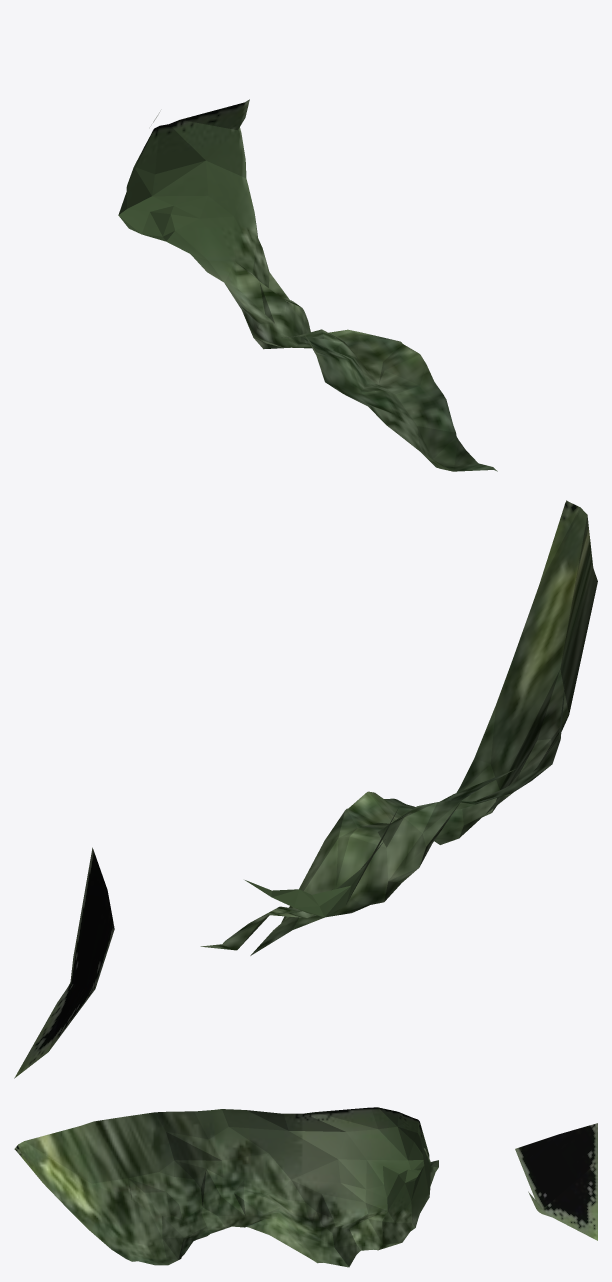
3 views of the same model, one above another, from view 1: azimuth 30°, elevation 25°; view 2: azimuth 150°, elevation 25°; view 3: azimuth 270°, elevation 25° (orthographic). The views are drawn at different scales.
Size of the model in its own units: 1.97 by 2.61 by 11.51.
Materials: 1 (1 with a texture image).
